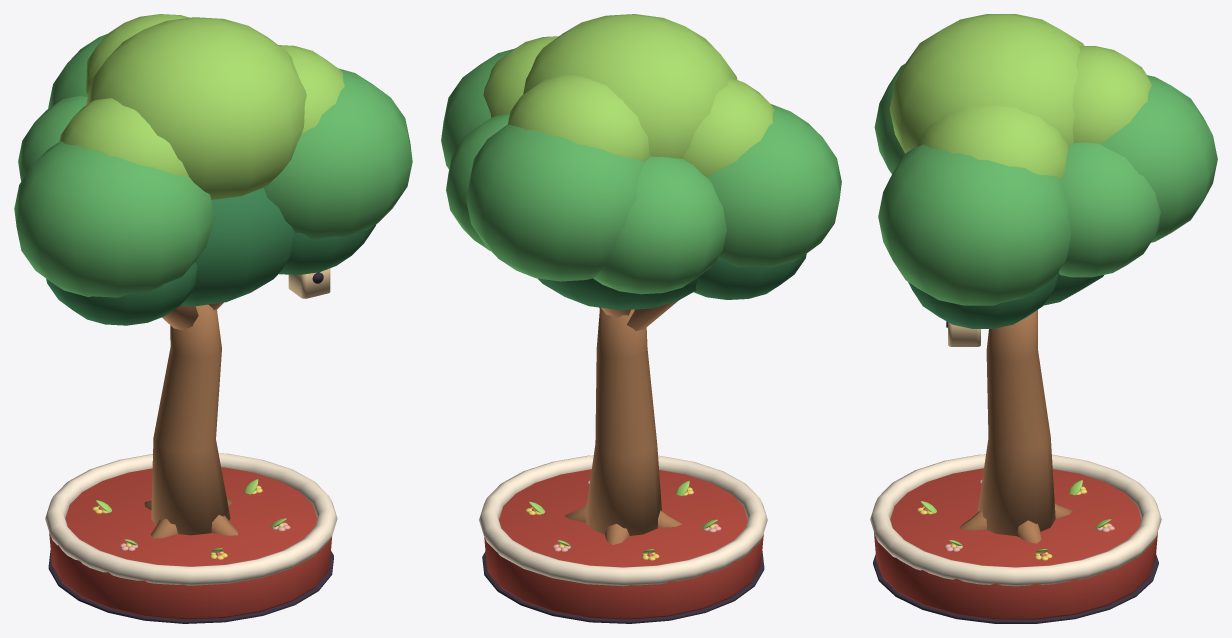
File: courtyard-tree.glb
3 views of the same model, side by side, from view 1: azimuth 30°, elevation 25°; view 2: azimuth 150°, elevation 25°; view 3: azimuth 270°, elevation 25° (orthographic).
Visible parts, largest first — view 1: YardTree_LeafGreenCrown, YardTree_GrassGreenCrown, YardTree_BrickPlanter, YardTree_WoodTrunkAndBranches, YardTree_DeepGreenCrown, YardTree_CreamPlanterRim, YardTree_SlatePads, YardTree_WoodLightBirdhouse; view 2: YardTree_LeafGreenCrown, YardTree_GrassGreenCrown, YardTree_BrickPlanter, YardTree_WoodTrunkAndBranches, YardTree_CreamPlanterRim, YardTree_DeepGreenCrown, YardTree_SlatePads; view 3: YardTree_LeafGreenCrown, YardTree_GrassGreenCrown, YardTree_BrickPlanter, YardTree_WoodTrunkAndBranches, YardTree_CreamPlanterRim, YardTree_DeepGreenCrown, YardTree_SlatePads, YardTree_WoodLightBirdhouse.
Boxes of the visible parts, bbox=[...] form: YardTree_LeafGreenCrown: bbox=[14, 33, 412, 297]; YardTree_GrassGreenCrown: bbox=[59, 14, 344, 552]; YardTree_BrickPlanter: bbox=[49, 467, 331, 619]; YardTree_WoodTrunkAndBranches: bbox=[144, 302, 237, 538]; YardTree_DeepGreenCrown: bbox=[46, 187, 376, 325]; YardTree_CreamPlanterRim: bbox=[45, 453, 337, 585]; YardTree_SlatePads: bbox=[48, 272, 333, 623]; YardTree_WoodLightBirdhouse: bbox=[288, 268, 330, 298]; YardTree_LeafGreenCrown: bbox=[441, 48, 841, 294]; YardTree_GrassGreenCrown: bbox=[483, 14, 774, 553]; YardTree_BrickPlanter: bbox=[484, 469, 763, 619]; YardTree_WoodTrunkAndBranches: bbox=[564, 300, 682, 544]; YardTree_CreamPlanterRim: bbox=[479, 455, 767, 586]; YardTree_DeepGreenCrown: bbox=[537, 254, 806, 310]; YardTree_SlatePads: bbox=[482, 551, 764, 623]; YardTree_LeafGreenCrown: bbox=[874, 64, 1217, 305]; YardTree_GrassGreenCrown: bbox=[889, 14, 1151, 553]; YardTree_BrickPlanter: bbox=[874, 468, 1157, 619]; YardTree_WoodTrunkAndBranches: bbox=[959, 310, 1072, 543]; YardTree_CreamPlanterRim: bbox=[870, 454, 1161, 586]; YardTree_DeepGreenCrown: bbox=[908, 271, 1103, 328]; YardTree_SlatePads: bbox=[873, 321, 1158, 623]; YardTree_WoodLightBirdhouse: bbox=[948, 322, 980, 346].
Size of the model in its own units: 2.36 by 3.24 by 1.9.
